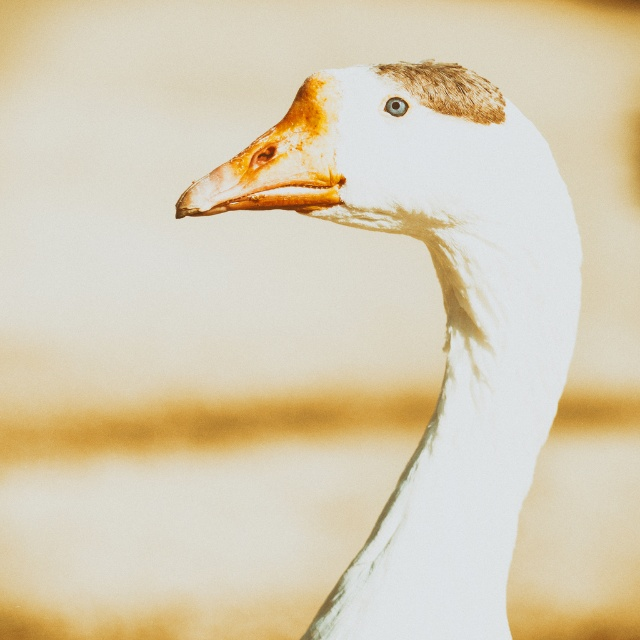Goose: (176, 60, 583, 640)
